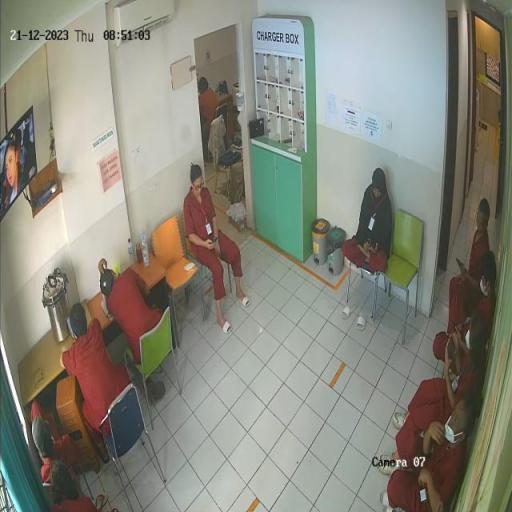person: (379, 312, 490, 477), (381, 392, 480, 512), (184, 164, 252, 333), (61, 304, 132, 465), (434, 252, 498, 377), (100, 260, 168, 368), (343, 167, 394, 274), (452, 198, 492, 302), (32, 401, 81, 485), (51, 461, 100, 512), (199, 77, 219, 165)
